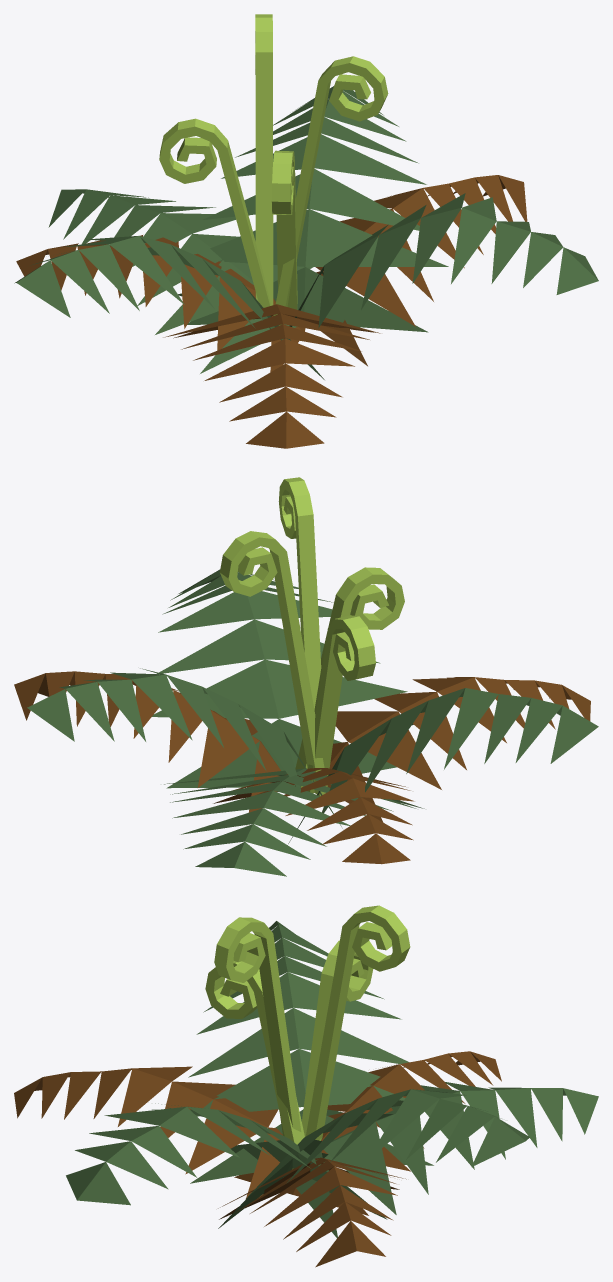
File: grass_09.fbx
3 views of the same model, one above another, from view 1: azimuth 30°, elevation 25°; view 2: azimuth 150°, elevation 25°; view 3: azimuth 270°, elevation 25° (orthographic).
Parts seen in each view (by area): view 1: grass_09; view 2: grass_09; view 3: grass_09.
Boxes of the visible parts, x1=… form: grass_09: x1=14, y1=14, x2=598, y2=448; grass_09: x1=14, y1=477, x2=598, y2=876; grass_09: x1=14, y1=905, x2=598, y2=1267.
Size of the model in its own units: 121 by 63.31 by 112.
